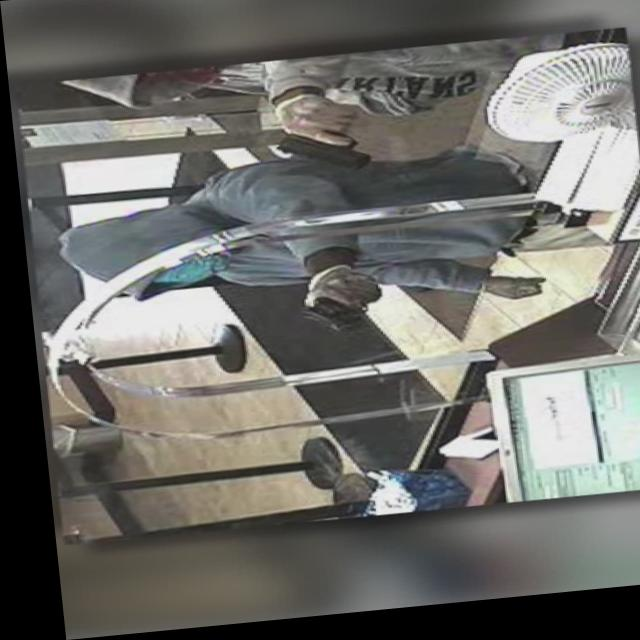handgun: (264, 113, 365, 182), (291, 296, 364, 341)
